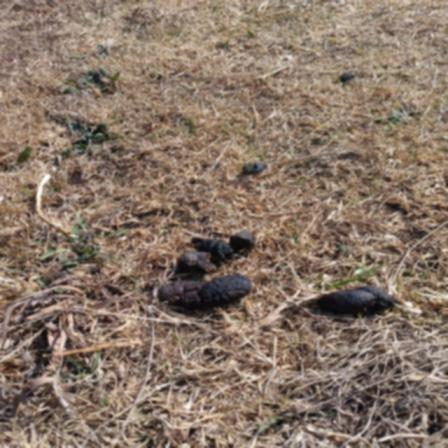dog-poop: (159, 229, 254, 308), (316, 283, 393, 318)
